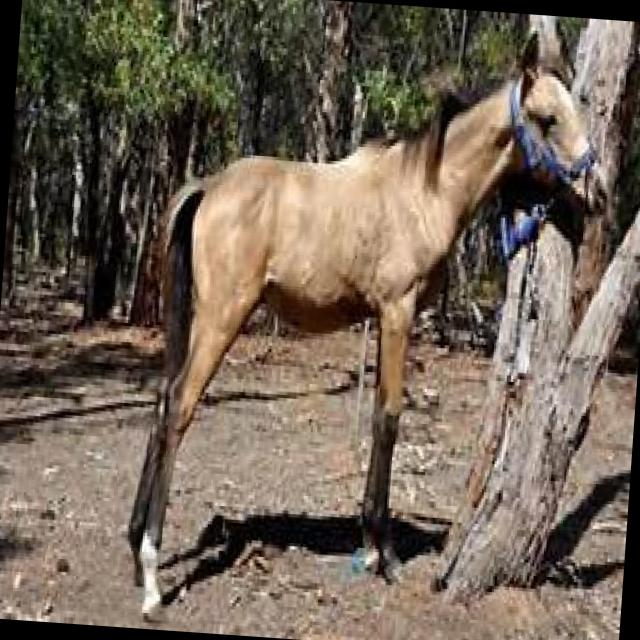animal: (69, 27, 623, 640)
